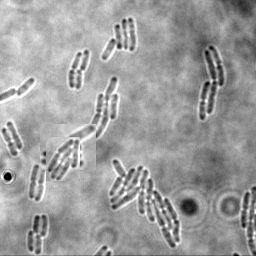Dividing: (67, 52, 81, 89), (1, 128, 18, 157), (34, 166, 47, 202), (28, 164, 39, 200), (239, 192, 249, 229)
Microcolony: (109, 158, 180, 249), (40, 124, 96, 170), (88, 76, 119, 139), (199, 45, 224, 121), (101, 18, 136, 61), (46, 137, 80, 181), (27, 214, 48, 255)
Rod: (5, 121, 23, 150), (16, 78, 34, 99), (79, 50, 89, 72), (73, 69, 82, 90)
